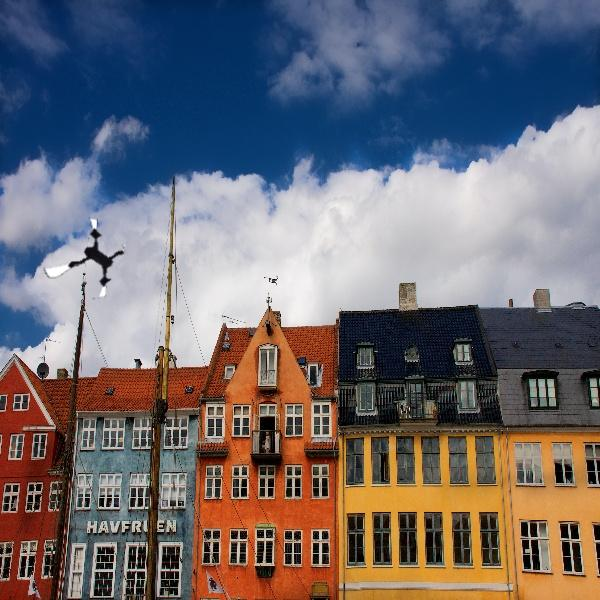drone: (41, 214, 133, 306)
